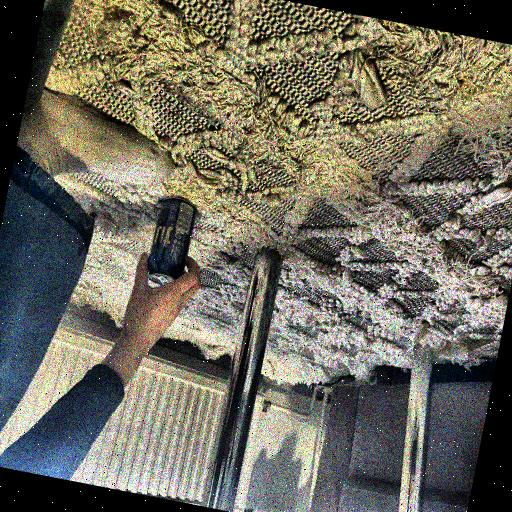koti: (138, 186, 204, 293)
